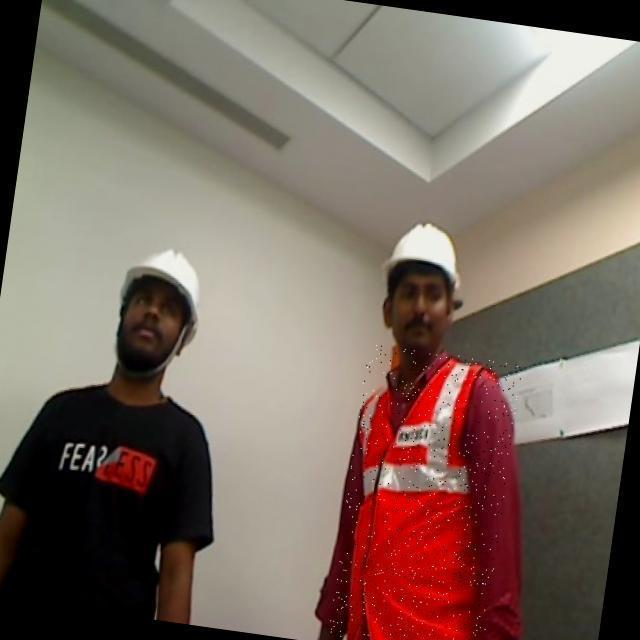safety_helmet: (326, 343, 523, 640)
